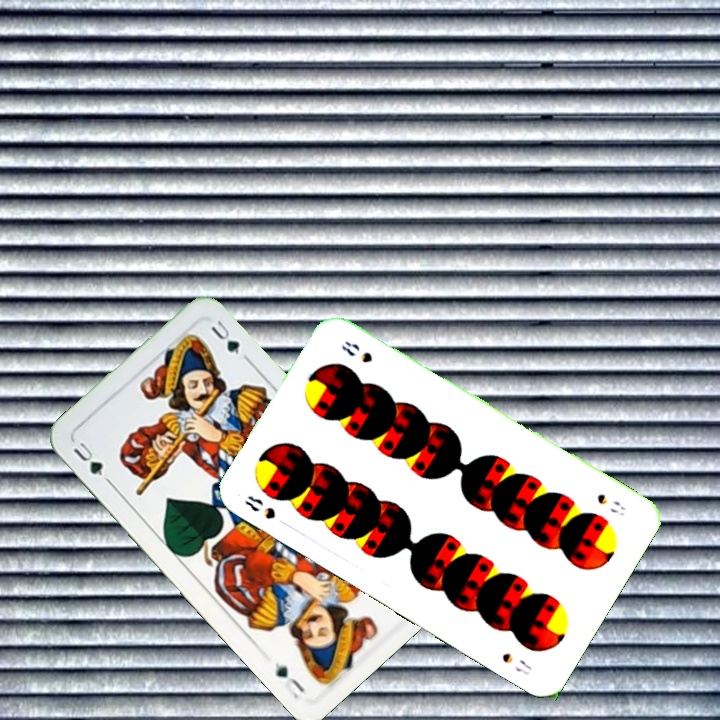GU: (69, 437, 106, 479)
S8: (241, 491, 279, 522), (593, 489, 627, 519)
